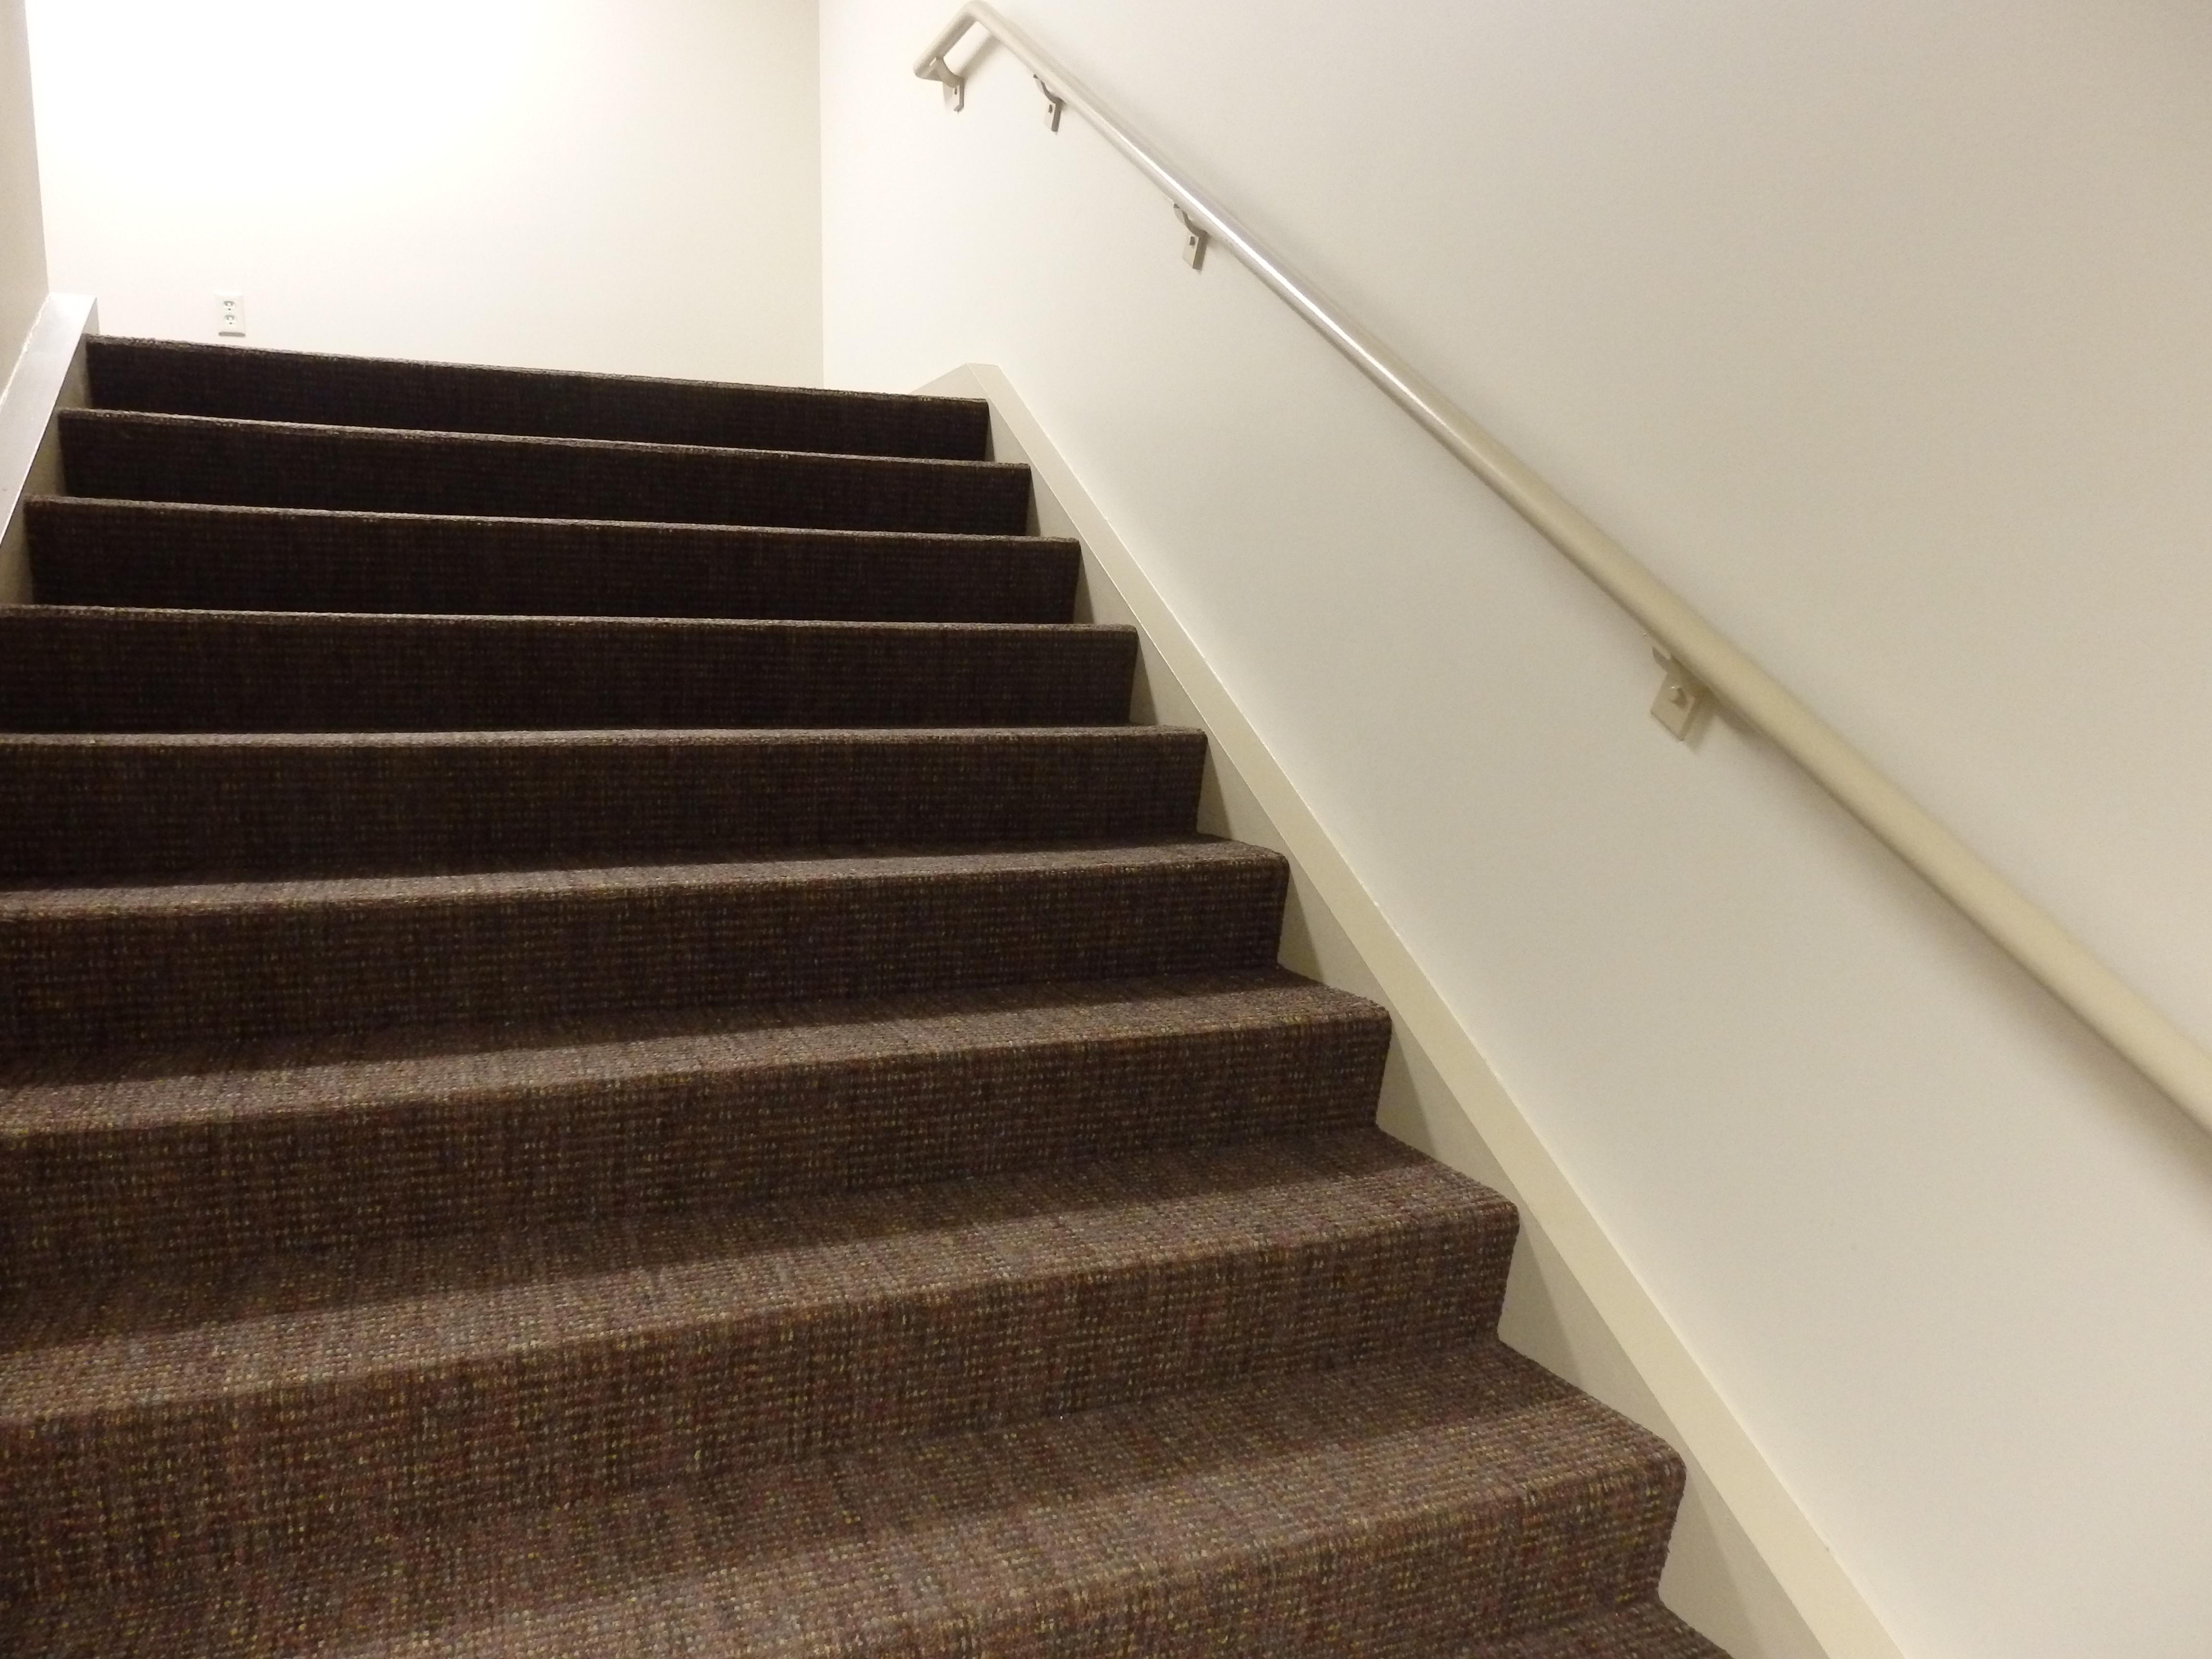stairs_up: (68, 303, 1559, 1600)
